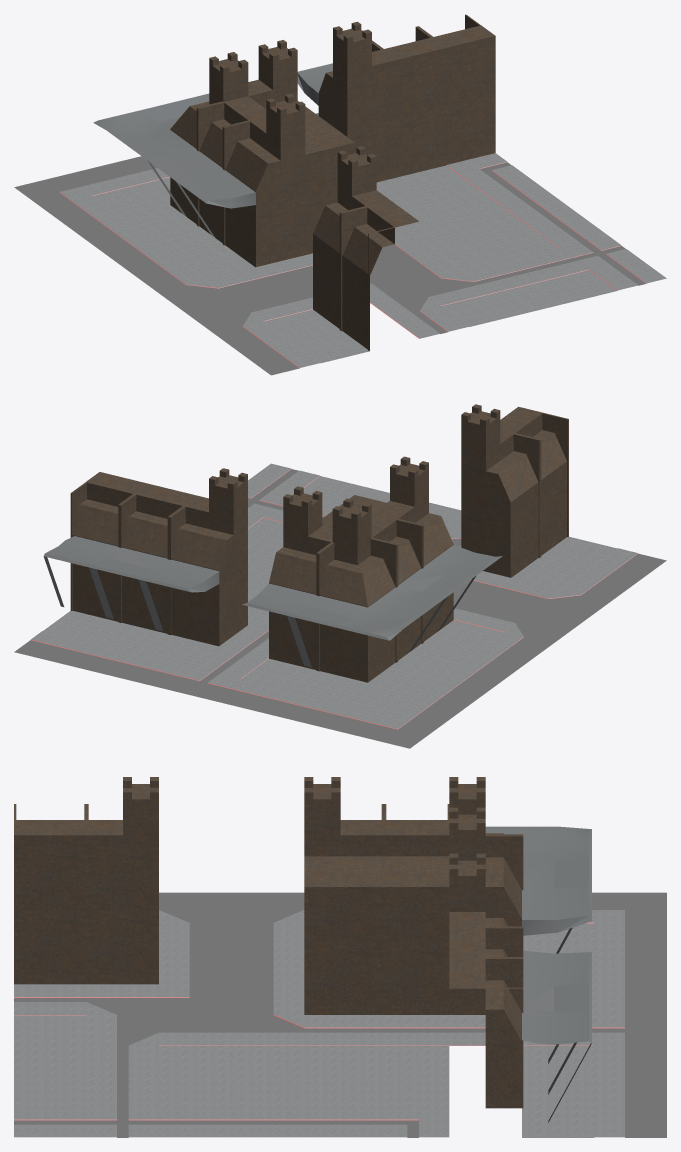
Rendered from Section0.gltf.
The picture shows the model from 3 angles, top to bottom: view 1: azimuth 30°, elevation 25°; view 2: azimuth 150°, elevation 25°; view 3: azimuth 270°, elevation 25°; orthographic projection. The views are drawn at different scales.
Parts seen in each view (by area): view 1: Section0; view 2: Section0; view 3: Section0.
Boxes of the visible parts, x1,y1,x2,y2 form: Section0: (14, 14, 666, 375); Section0: (14, 404, 666, 748); Section0: (14, 777, 666, 1137).
Size of what is drawn, in the model's own units: 128 by 46.8 by 144.
Materials: 6 (3 with a texture image).
